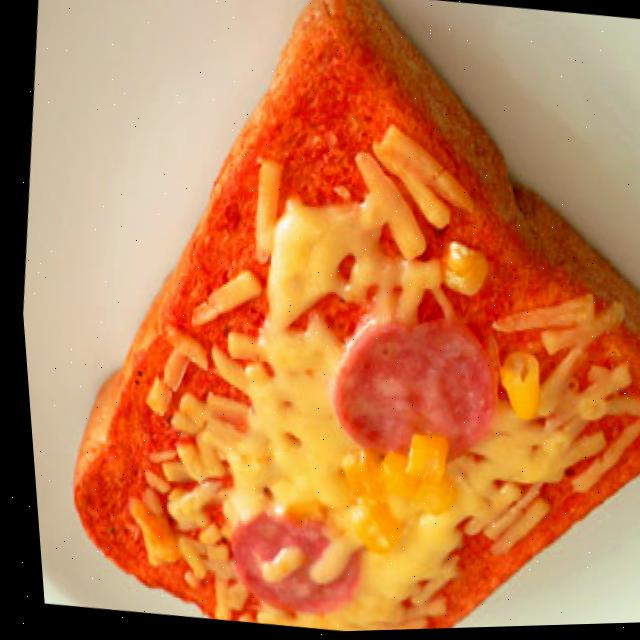面包点心: (7, 0, 640, 640)
